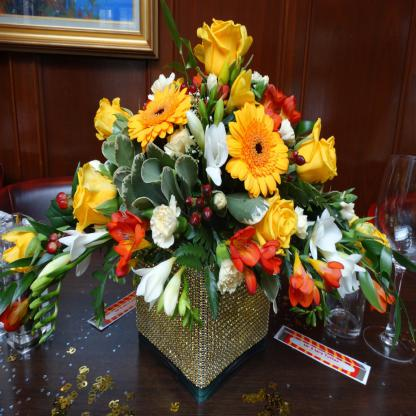vase: (134, 236, 269, 402)
